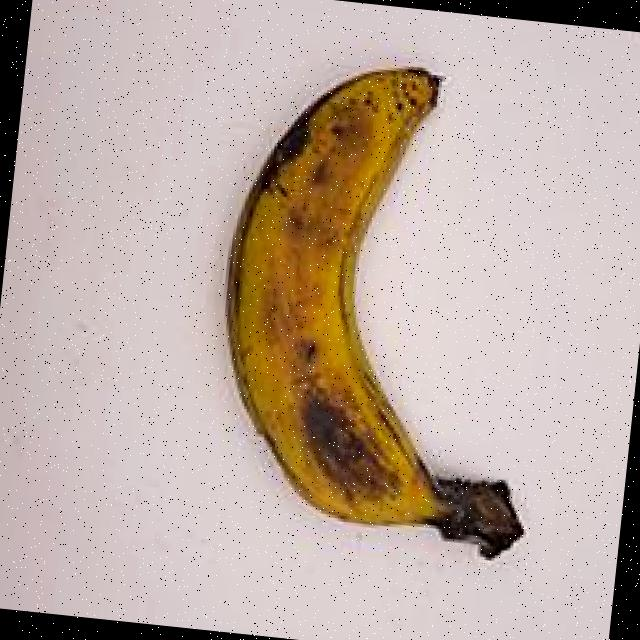Overripe: (182, 20, 606, 588)
